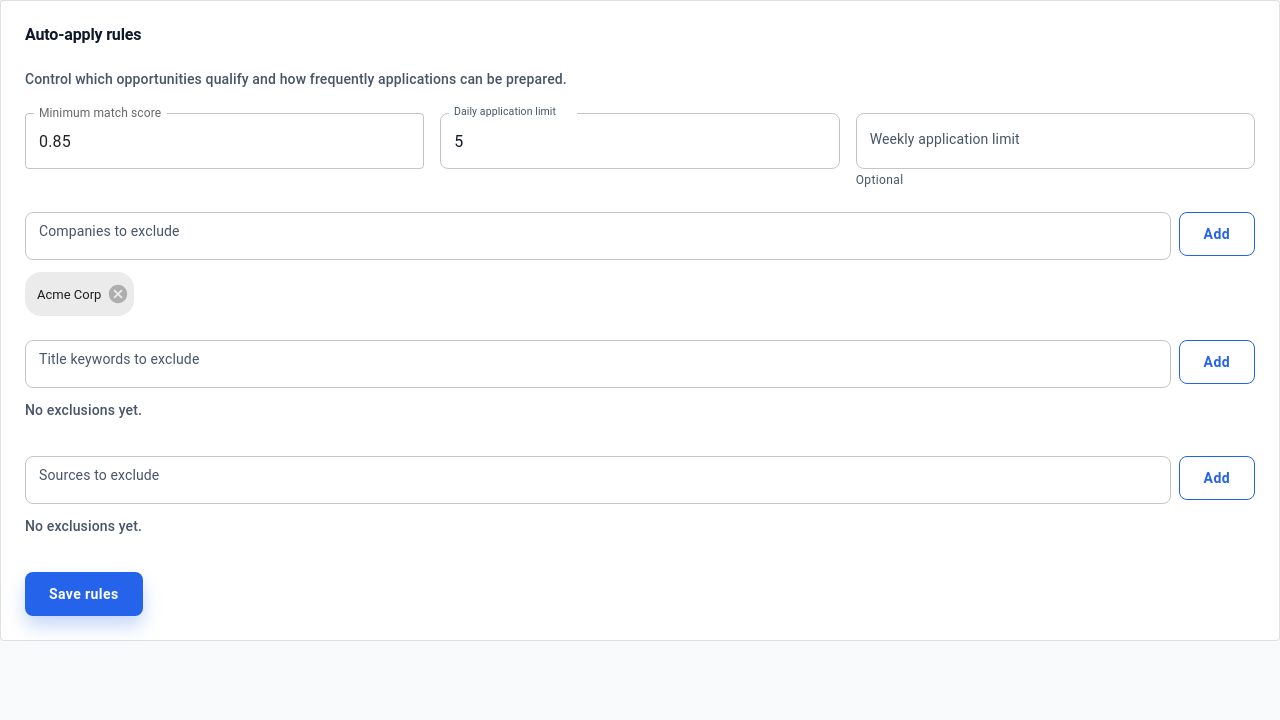
ExclusionsSection AA-027 › rejects duplicate company exclusions inline
This screenshot has width=1280, height=720.
Type "Acme Corp" into the field labelled "Companies to exclude" at (598, 236), box [25,216,1171,256]
Then press Enter
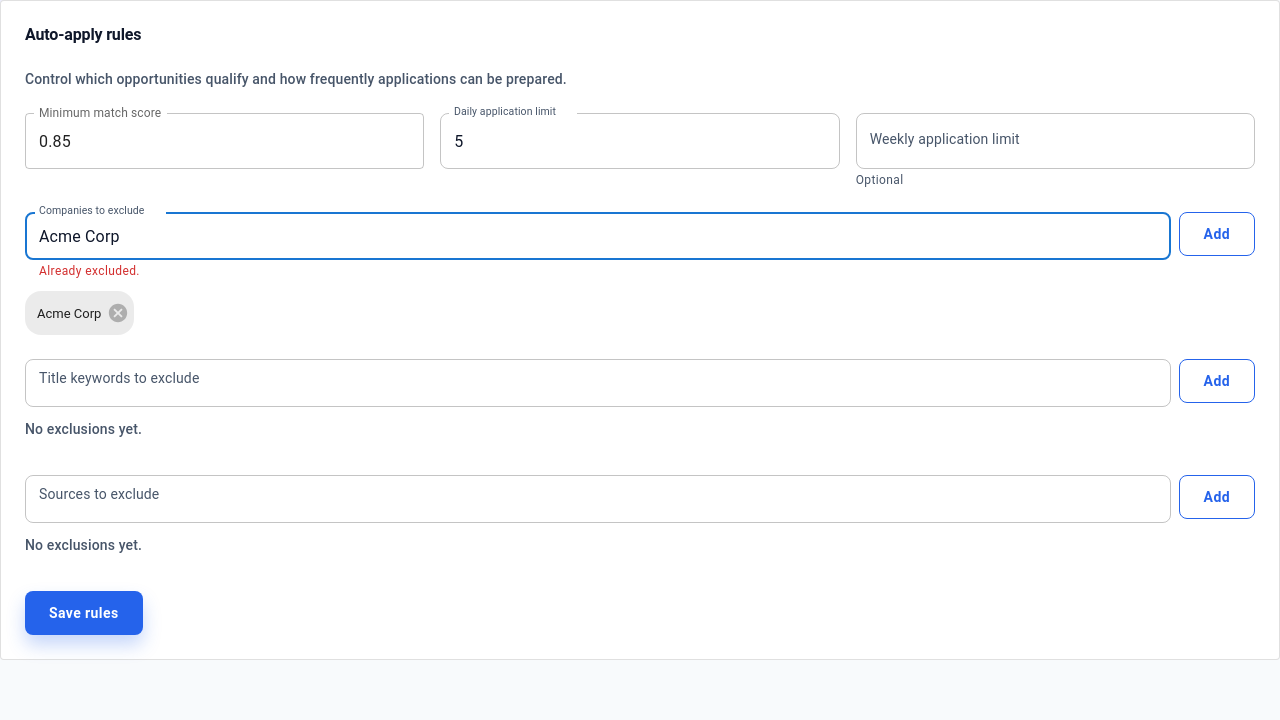
Expected: the message reads "Already excluded.", [39,264,140,278]
